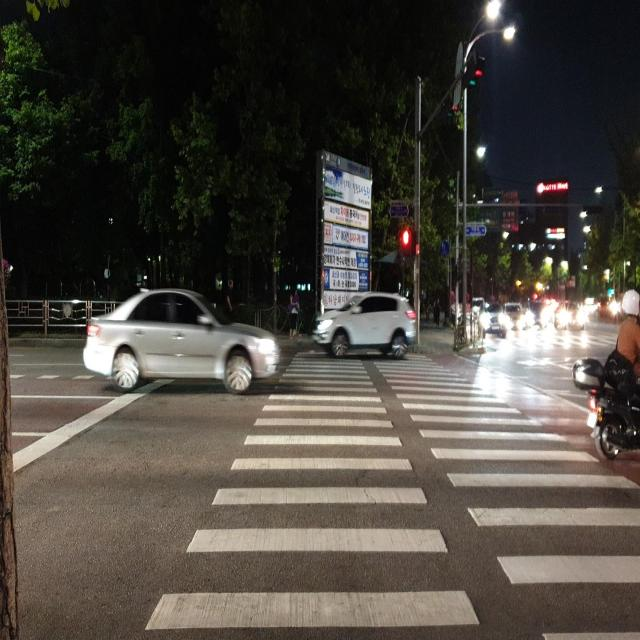빨간불: (402, 232, 411, 264)
횡단보도: (145, 351, 640, 639)
